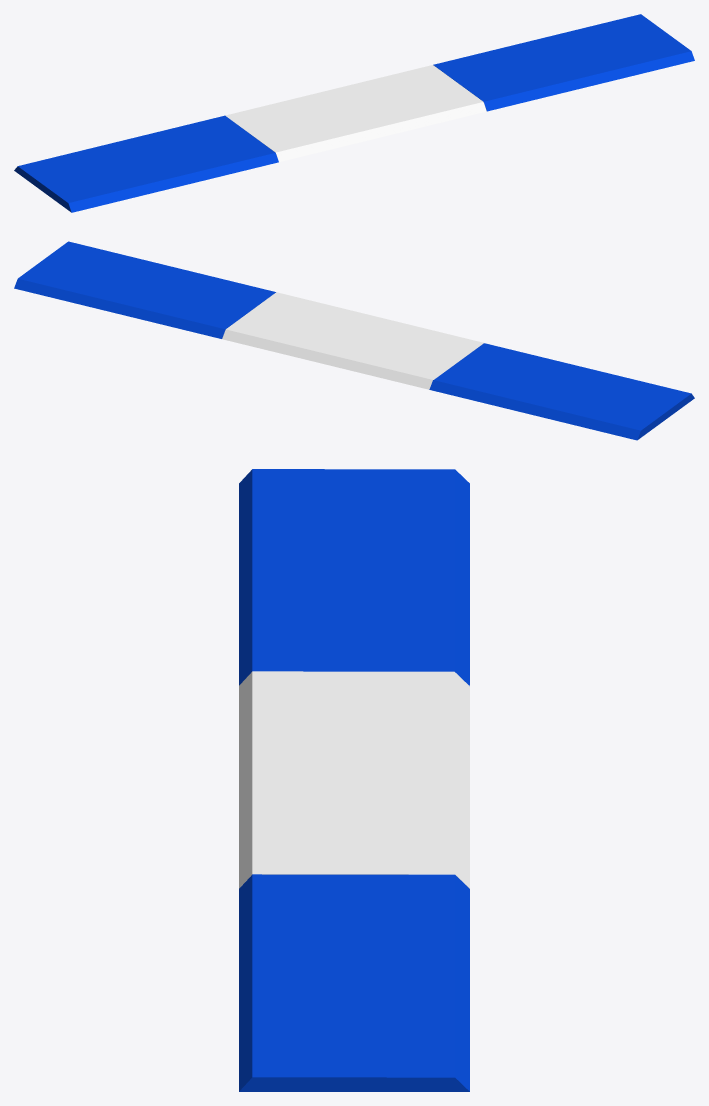
The model's file is roadCornerLargeblue3.fbx.
The picture shows the model from 3 angles, top to bottom: view 1: azimuth 30°, elevation 25°; view 2: azimuth 150°, elevation 25°; view 3: azimuth 270°, elevation 25°; orthographic projection. The views are drawn at different scales.
Parts seen in each view (by area): view 1: Cube.001, Cube.004, Cube; view 2: Cube.001, Cube.004, Cube; view 3: Cube.004, Cube, Cube.001.
Part boxes in pixels (bbox=[...]): Cube.001: bbox=[14, 115, 278, 212]; Cube.004: bbox=[433, 14, 694, 111]; Cube: bbox=[225, 65, 486, 162]; Cube.001: bbox=[429, 343, 694, 440]; Cube.004: bbox=[14, 241, 275, 338]; Cube: bbox=[222, 292, 483, 389]; Cube.004: bbox=[239, 874, 469, 1091]; Cube: bbox=[239, 671, 469, 888]; Cube.001: bbox=[239, 469, 469, 685].
Bounding box in the file's own units: 1246 × 13.87 × 200.
